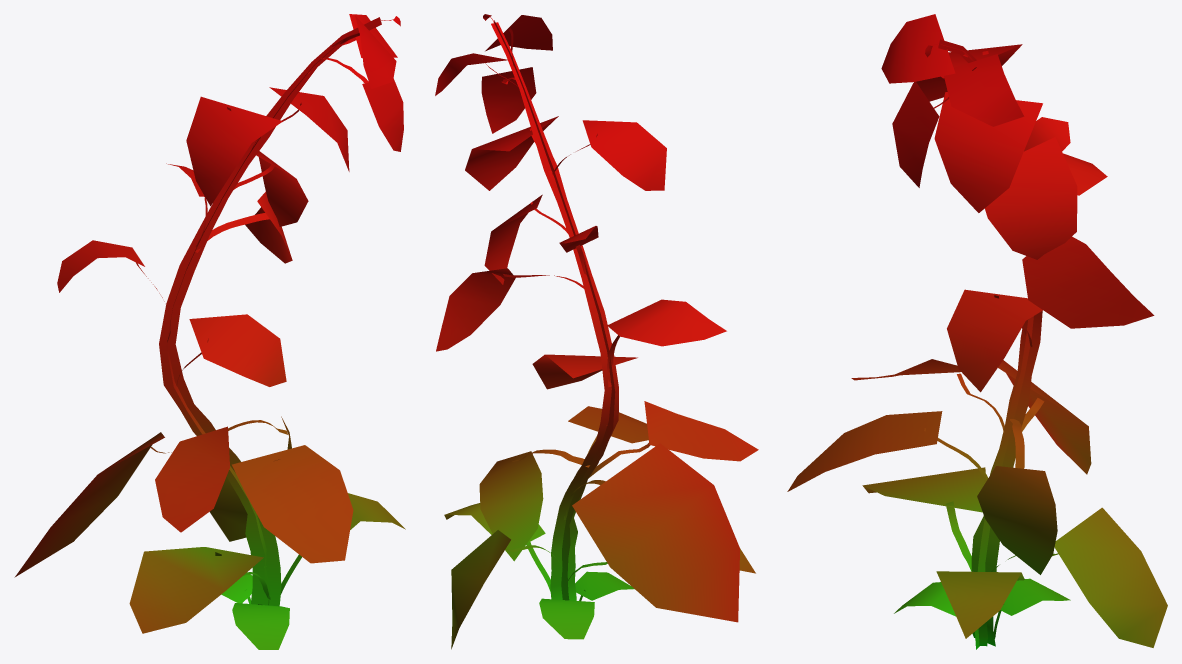
The model's file is Money Plant_LOD2_Var3_uchmfdyia.fbx.
3 renders of one model, left to right at view 1: azimuth 30°, elevation 25°; view 2: azimuth 150°, elevation 25°; view 3: azimuth 270°, elevation 25°, orthographic. The views are drawn at different scales.
Parts seen in each view (by area): view 1: _a039_Var3_LOD2; view 2: _a039_Var3_LOD2; view 3: _a039_Var3_LOD2.
Part boxes in pixels (x1,y1,x2,y2): _a039_Var3_LOD2: (14,14,405,649); _a039_Var3_LOD2: (435,14,758,649); _a039_Var3_LOD2: (787,14,1167,649).
Bounding box in the file's own units: 19.57 × 32.72 × 16.89.
